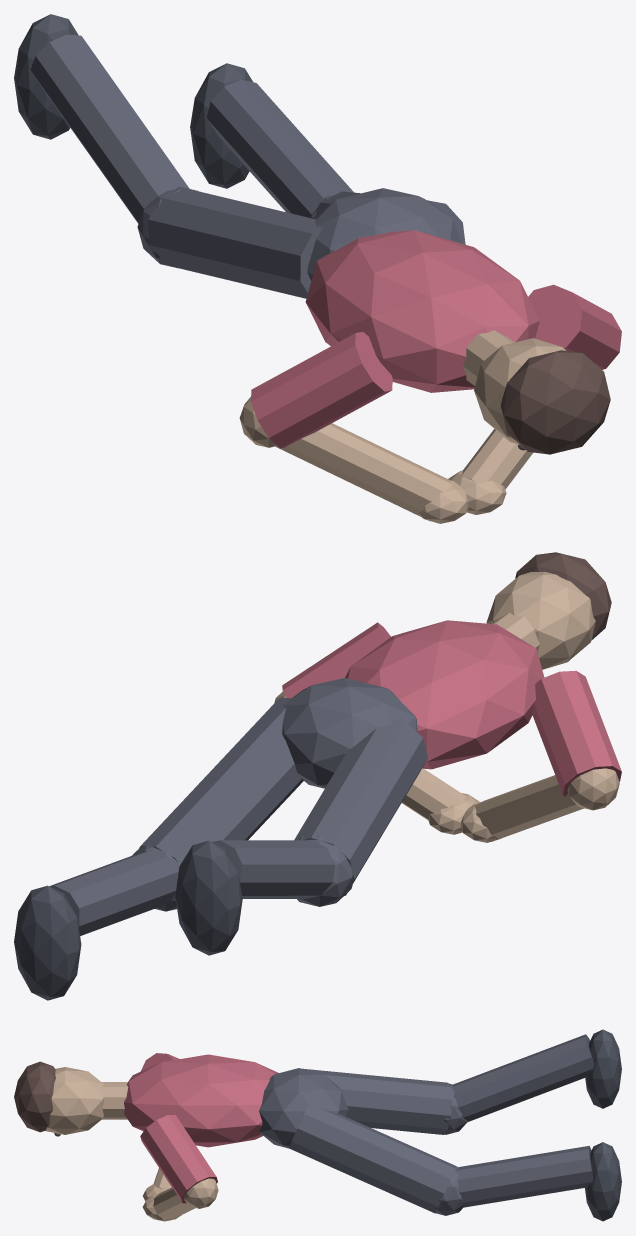
3 renders of one model, top to bottom at view 1: azimuth 30°, elevation 25°; view 2: azimuth 150°, elevation 25°; view 3: azimuth 270°, elevation 25°, orthographic. The views are drawn at different scales.
Parts seen in each view (by area): view 1: world; view 2: world; view 3: world.
Boxes of the visible parts, x1=… form: world: x1=14, y1=14, x2=621, y2=523; world: x1=14, y1=552, x2=621, y2=1000; world: x1=14, y1=1029, x2=621, y2=1221.
Size of the model in its own units: 0.93 by 0.625 by 2.08.
